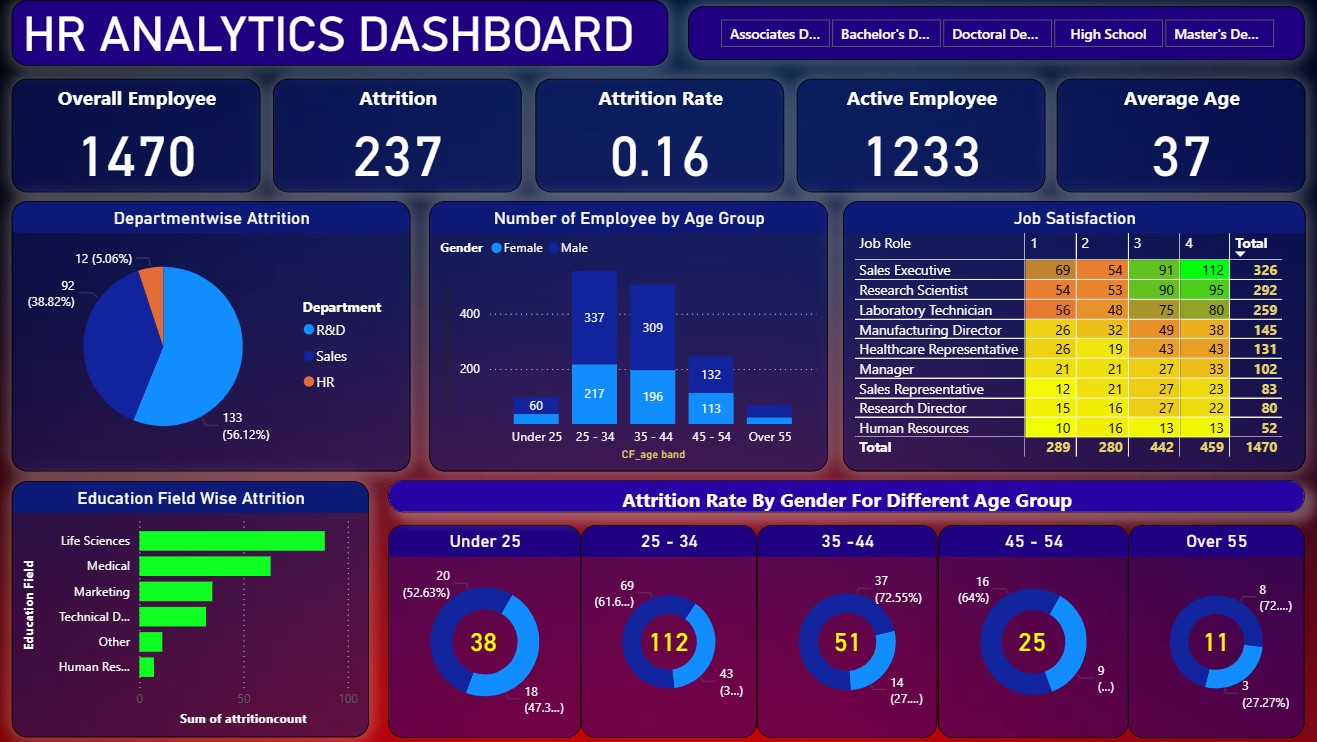

The dashboard page shown, as its layout file describes it:
{"tool":"powerbi","page":{"name":"Page 1","canvas":[1280,720],"ordinal":0},"visuals":[{"type":"card","title":"Overall Employee","fields":{"Values":["Sum(Sheet1 (2).Employee Count)"]},"box":[13.3,76,240.1,109.8],"z":0},{"type":"card","title":"Attrition","fields":{"Values":["Sum(Sheet1 (2).attritioncount)"]},"box":[265.4,76,240.1,109.8],"z":1000},{"type":"card","title":"Attrition Rate","fields":{"Values":["Sheet1 (2).Attrition Rate"]},"box":[518.8,76,240.1,109.8],"z":2000},{"type":"card","title":"Active Employee","fields":{"Values":["Sheet1 (2).Active employee"]},"box":[770.9,76,240.1,109.8],"z":3000},{"type":"card","title":"Average Age","fields":{"Values":["Avg(Sheet1 (2).Age)"]},"box":[1021.9,76,240.1,109.8],"z":4000},{"type":"pieChart","title":" Departmentwise Attrition","fields":{"Category":["Sheet1 (2).Department"],"Y":["Sum(Sheet1 (2).attritioncount)"]},"box":[13.3,194.2,384.9,260.6],"z":5000},{"type":"columnChart","title":"Number of Employee by Age Group","fields":{"Category":["Sheet1 (2).CF_age band"],"Y":["Sum(Sheet1 (2).Employee Count)"],"Series":["Sheet1 (2).Gender"]},"box":[416.2,194.2,384.9,260.6],"z":6000},{"type":"pivotTable","title":"Job Satisfaction","fields":{"Rows":["Sheet1 (2).Job Role"],"Columns":["Sheet1 (2).Job Satisfaction"],"Values":["Sum(Sheet1 (2).Employee Count)"]},"box":[815.6,194.2,446.4,260.6],"z":7000},{"type":"barChart","title":"Education Field Wise Attrition","fields":{"Category":["Sheet1 (2).Education Field"],"Y":["Sum(Sheet1 (2).attritioncount)"]},"box":[13.3,464.5,345,247],"z":8000},{"type":"donutChart","title":"Under 25","fields":{"Category":["Sheet1 (2).Gender"],"Y":["Sum(Sheet1 (2).attritioncount)"],"Series":["Sheet1 (2).CF_age band"]},"box":[376,506.3,186.6,205.8],"z":9000},{"type":"textbox","title":"Attrition Rate By Gender For Different Age Group","box":[376,463.8,885.1,31.6],"z":10000},{"type":"donutChart","title":"25 - 34","fields":{"Category":["Sheet1 (2).Gender"],"Y":["Sum(Sheet1 (2).attritioncount)"],"Series":["Sheet1 (2).CF_age band"]},"box":[562.6,506.3,170.2,205.8],"z":11000},{"type":"donutChart","title":"35 -44","fields":{"Category":["Sheet1 (2).Gender"],"Y":["Sum(Sheet1 (2).attritioncount)"],"Series":["Sheet1 (2).CF_age band"]},"box":[732.8,506.3,174.3,205.8],"z":12000},{"type":"donutChart","title":"45 - 54","fields":{"Category":["Sheet1 (2).Gender"],"Y":["Sum(Sheet1 (2).attritioncount)"],"Series":["Sheet1 (2).CF_age band"]},"box":[907,506.3,183.9,205.8],"z":13000},{"type":"donutChart","title":"Over 55","fields":{"Category":["Sheet1 (2).Gender"],"Y":["Sum(Sheet1 (2).attritioncount)"],"Series":["Sheet1 (2).CF_age band"]},"box":[1090.9,506.3,170.2,205.8],"z":14000},{"type":"card","fields":{"Values":["Sum(Sheet1 (2).attritioncount)"]},"box":[439.1,596.9,59,43.9],"z":15000},{"type":"card","fields":{"Values":["Sum(Sheet1 (2).attritioncount)"]},"box":[617.5,596.9,59,43.9],"z":16000},{"type":"card","fields":{"Values":["Sum(Sheet1 (2).attritioncount)"]},"box":[790.4,596.9,59,43.9],"z":17000},{"type":"card","fields":{"Values":["Sum(Sheet1 (2).attritioncount)"]},"box":[968.8,596.9,59,43.9],"z":18000},{"type":"card","fields":{"Values":["Sum(Sheet1 (2).attritioncount)"]},"box":[1145.8,596.9,59,43.9],"z":19000},{"type":"textbox","title":"HR ANALYTICS DASHBOARD","box":[13.7,0,634,63.1],"z":20000},{"type":"slicer","fields":{"Values":["Sheet1 (2).Education"]},"box":[665.5,5.5,595.5,52.1],"z":21000}]}

Visuals, with their boxes in screenshot pixels (x1, y1, x2, y2), scaled from the page's 1280x720 canvas onto the 1317x742 screenshot:
"Overall Employee" card: <region>14, 78, 261, 191</region>
"Attrition" card: <region>273, 78, 520, 191</region>
"Attrition Rate" card: <region>534, 78, 781, 191</region>
"Active Employee" card: <region>793, 78, 1040, 191</region>
"Average Age" card: <region>1051, 78, 1298, 191</region>
" Departmentwise Attrition" pieChart: <region>14, 200, 410, 469</region>
"Number of Employee by Age Group" columnChart: <region>428, 200, 824, 469</region>
"Job Satisfaction" pivotTable: <region>839, 200, 1298, 469</region>
"Education Field Wise Attrition" barChart: <region>14, 479, 369, 733</region>
"Under 25" donutChart: <region>387, 522, 579, 734</region>
"Attrition Rate By Gender For Different Age Group" textbox: <region>387, 478, 1298, 511</region>
"25 - 34" donutChart: <region>579, 522, 754, 734</region>
"35 -44" donutChart: <region>754, 522, 933, 734</region>
"45 - 54" donutChart: <region>933, 522, 1122, 734</region>
"Over 55" donutChart: <region>1122, 522, 1298, 734</region>
card - Sum(Sheet1 (2).attritioncount): <region>452, 615, 512, 660</region>
card - Sum(Sheet1 (2).attritioncount): <region>635, 615, 696, 660</region>
card - Sum(Sheet1 (2).attritioncount): <region>813, 615, 874, 660</region>
card - Sum(Sheet1 (2).attritioncount): <region>997, 615, 1058, 660</region>
card - Sum(Sheet1 (2).attritioncount): <region>1179, 615, 1240, 660</region>
"HR ANALYTICS DASHBOARD" textbox: <region>14, 0, 666, 65</region>
slicer - Sheet1 (2).Education: <region>685, 6, 1297, 59</region>
